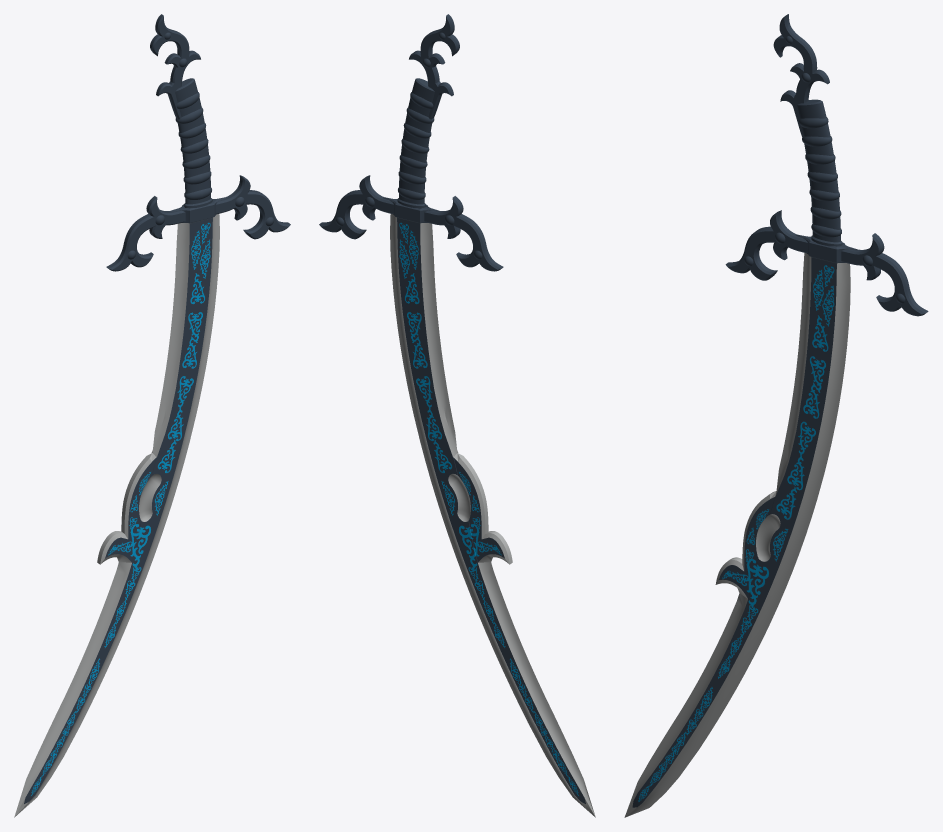
File: blue_blade.obj
The picture shows the model from 3 angles, left to right: view 1: azimuth 30°, elevation 25°; view 2: azimuth 150°, elevation 25°; view 3: azimuth 330°, elevation 25°; orthographic projection. The views are drawn at different scales.
Visible parts, largest first — view 1: Object__0; view 2: Object__0; view 3: Object__0.
Part boxes in pixels (x1,y1,x2,y2): Object__0: (14, 14, 290, 817); Object__0: (319, 14, 595, 817); Object__0: (624, 14, 928, 817).
Bounding box in the file's own units: 0.4778 × 1.27 × 0.0231.
Materials: 5 (1 with a texture image).
